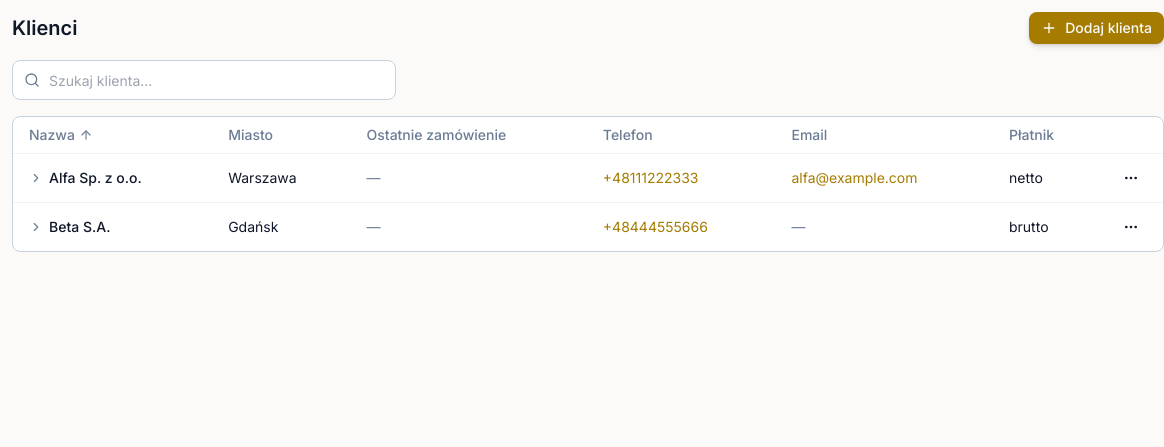
it: SalesCustomersView › displays discount percent in expanded row
Expected: the text "Alfa Sp. z o.o." is shown, [49, 168, 142, 188]
Click the expand chevron inside the name cell
Click the text "Alfa Sp. z o.o." at (85, 177), box [29, 168, 142, 186]
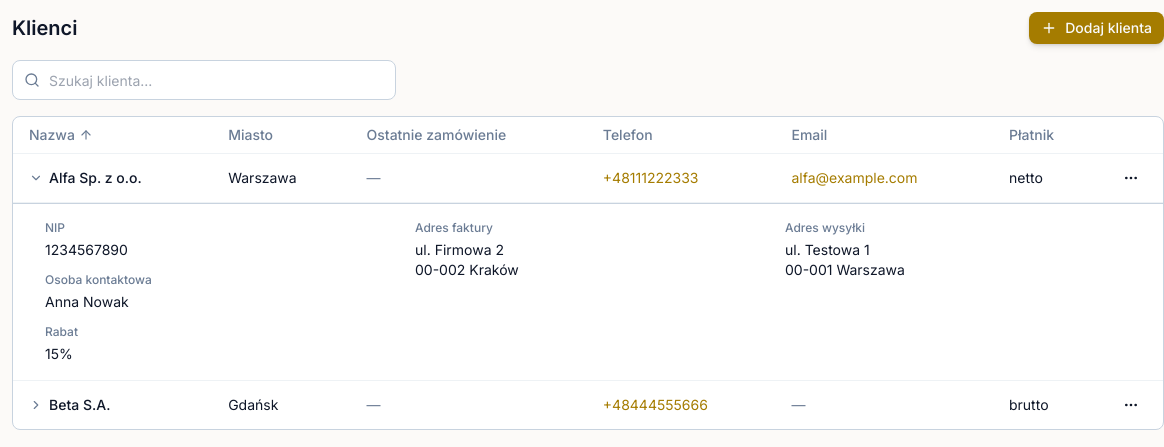
Now the text "15%" is shown, box [45, 344, 73, 362]
